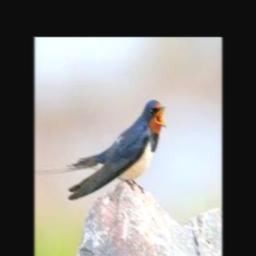Swallow: (67, 101, 166, 200)
